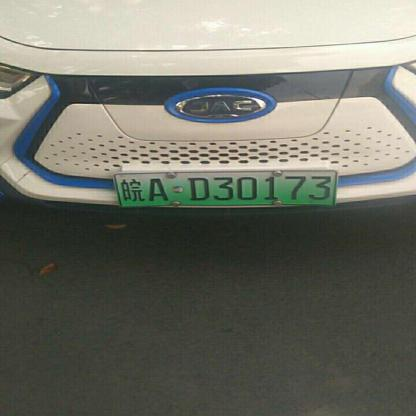lp: (115, 171, 335, 206)
